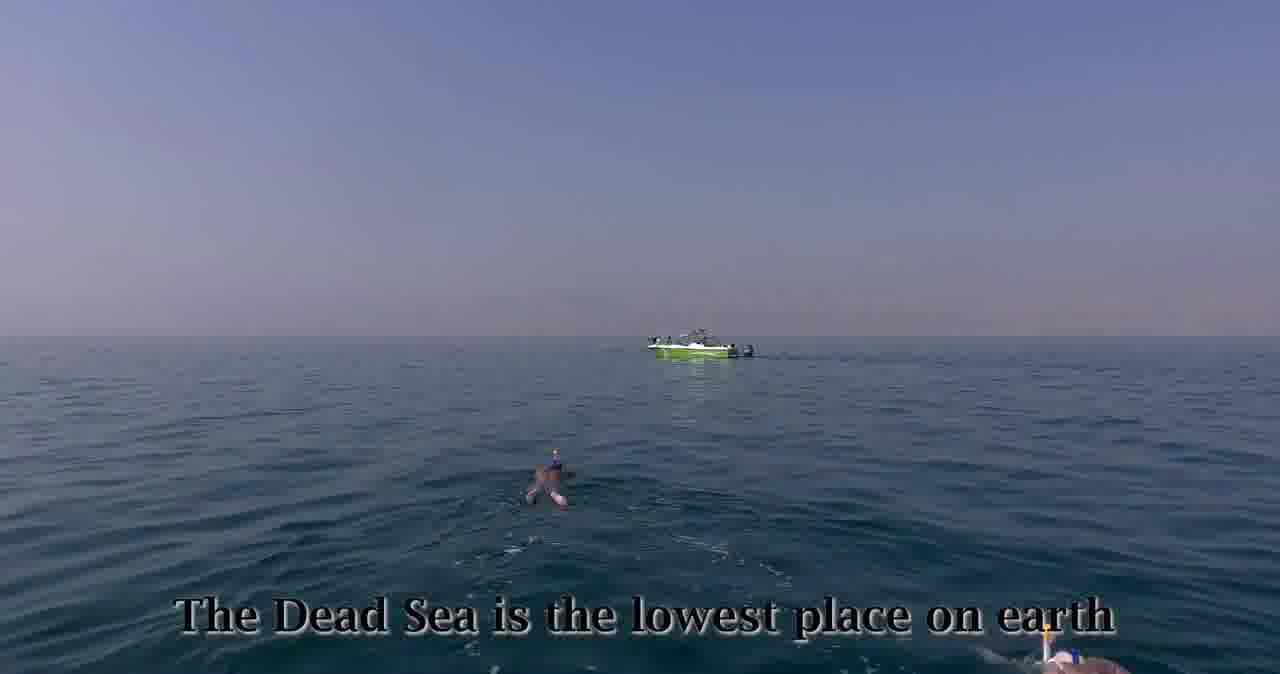human: (1016, 628, 1147, 674), (522, 441, 571, 499)
